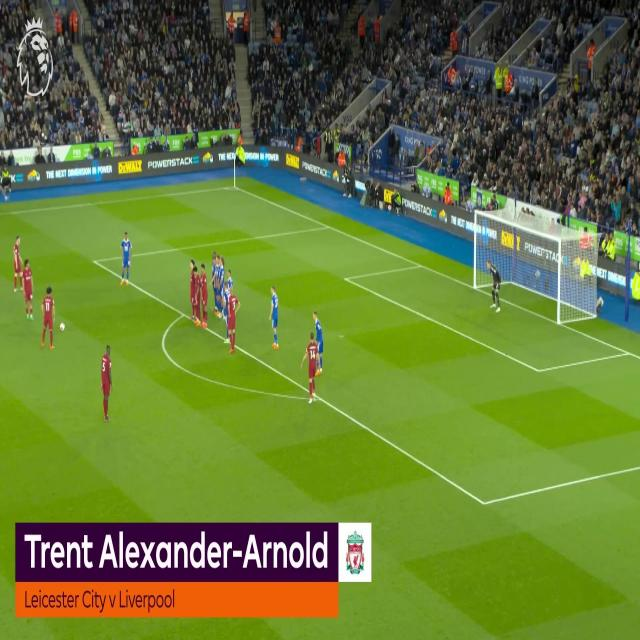left-top: (475, 211, 517, 229)
soccer-goal: (474, 211, 558, 321)
